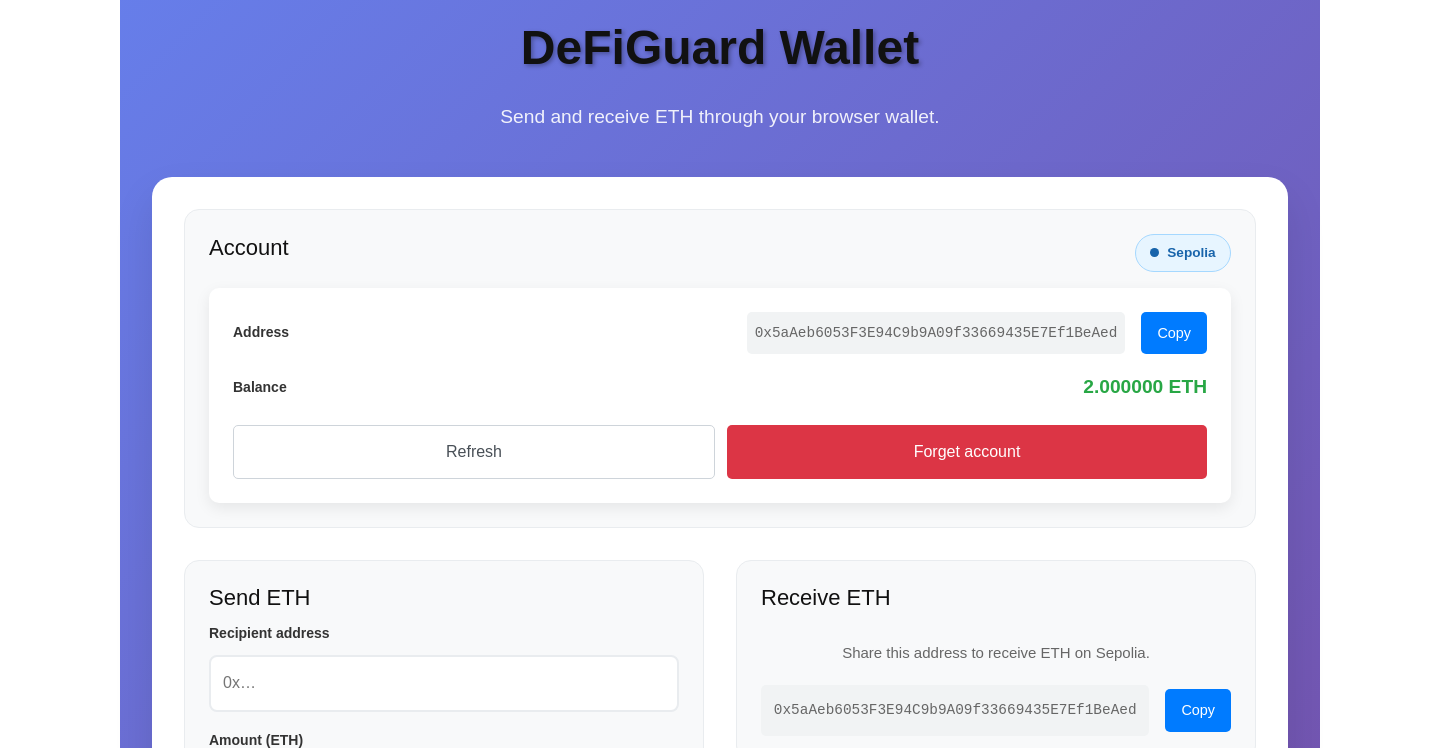
Scenario: Wallet page › refuses to spend the whole balance, because gas has to come from somewhere
Expected: the text with test id "account-address" is shown, top-left (747, 312), bottom-right (1125, 354)
Type "0xfB6916095ca1df60bB79Ce92cE3Ea74c37c5d359" into the field labelled "Recipient address" at (444, 683), box top-left (209, 655), bottom-right (679, 712)
(page scrolled)
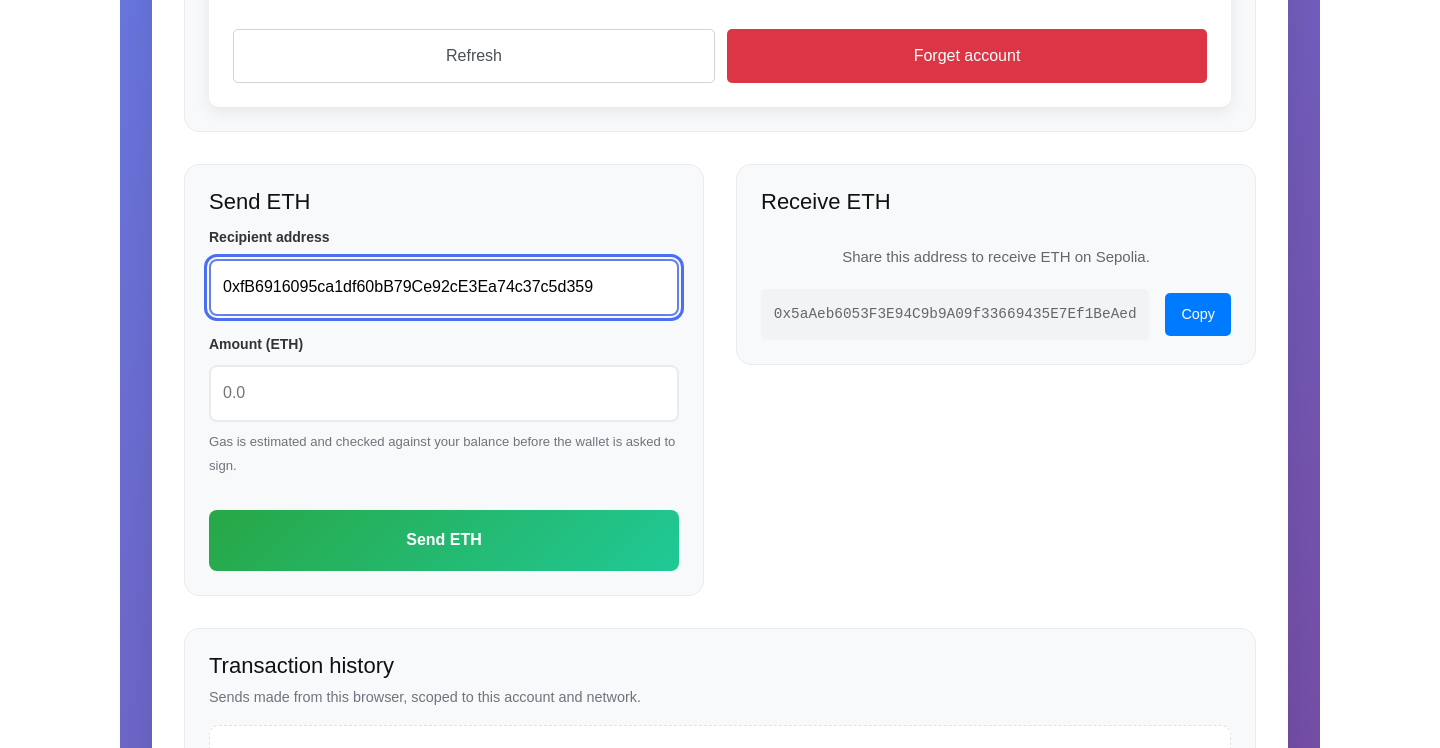
Type "2" into the field labelled "Amount (ETH)" at (444, 393), box top-left (209, 365), bottom-right (679, 422)
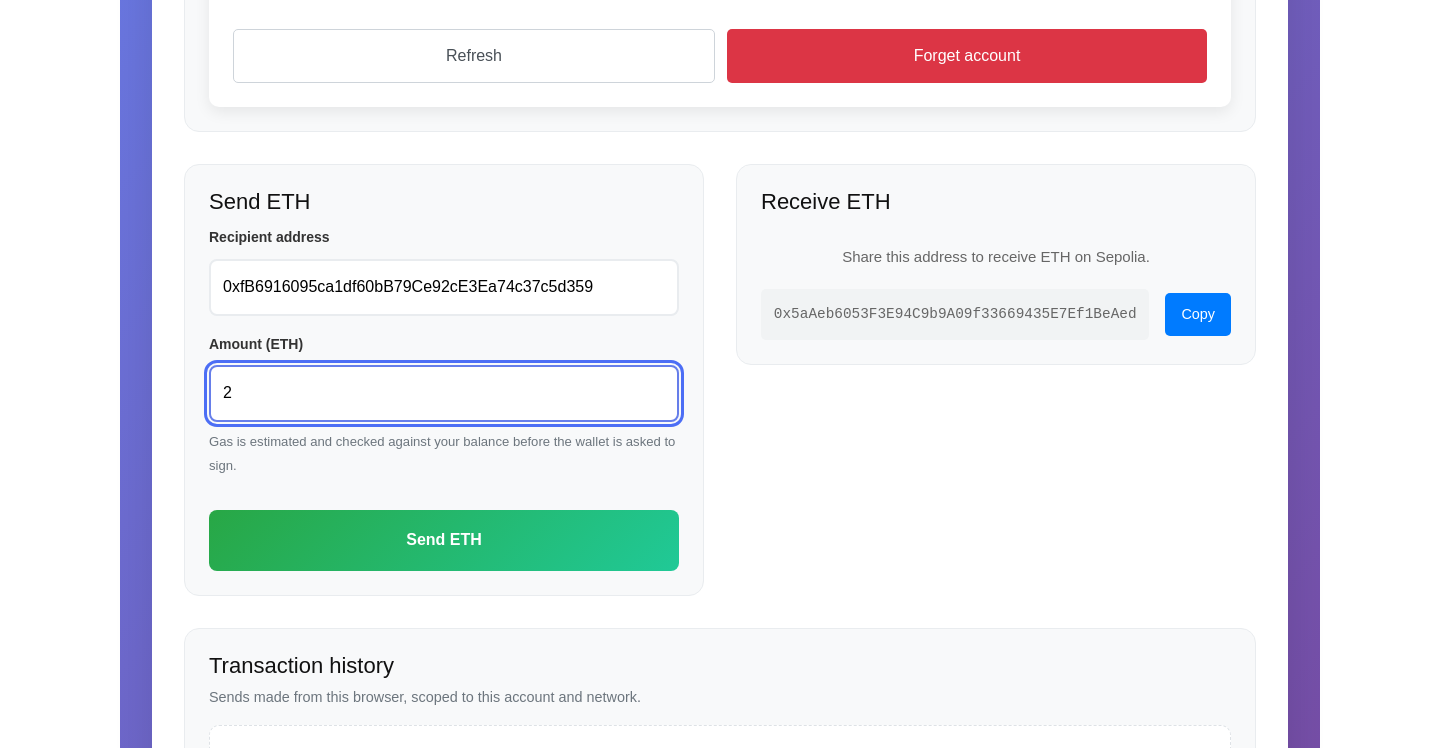
Click the button "Send ETH" at (444, 540), box top-left (209, 510), bottom-right (679, 571)
(page scrolled)
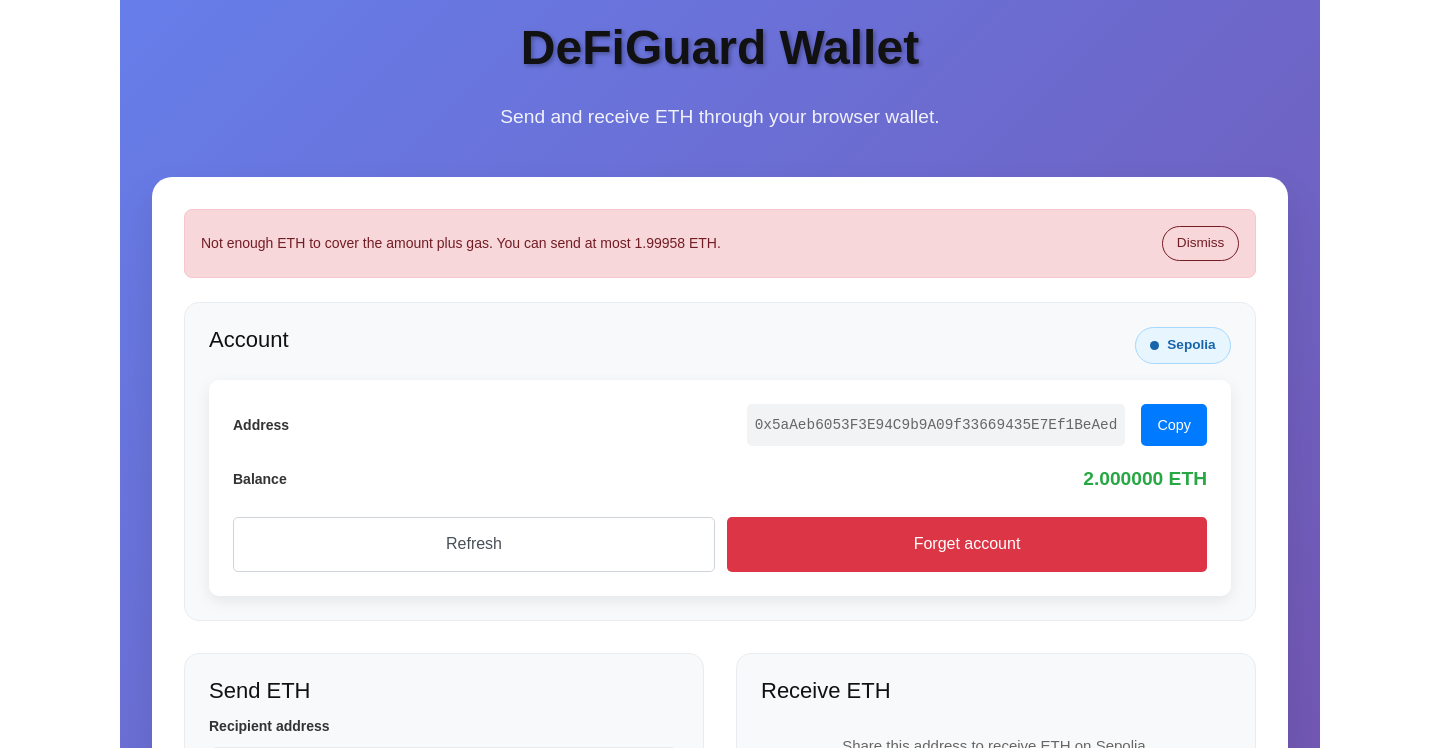
Expected: the message with test id "wallet-error" shows "You can send at most 1.99958 ETH", top-left (201, 235), bottom-right (721, 251)
